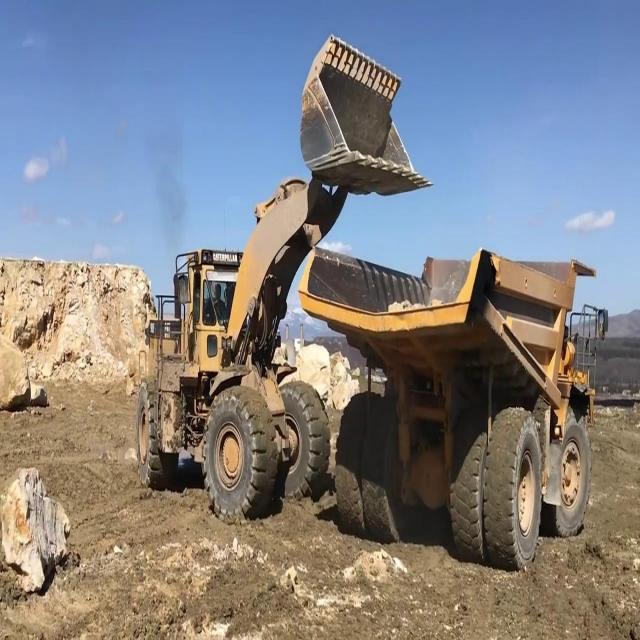Dump Truck: (296, 239, 608, 578)
Loader: (133, 31, 433, 526)
